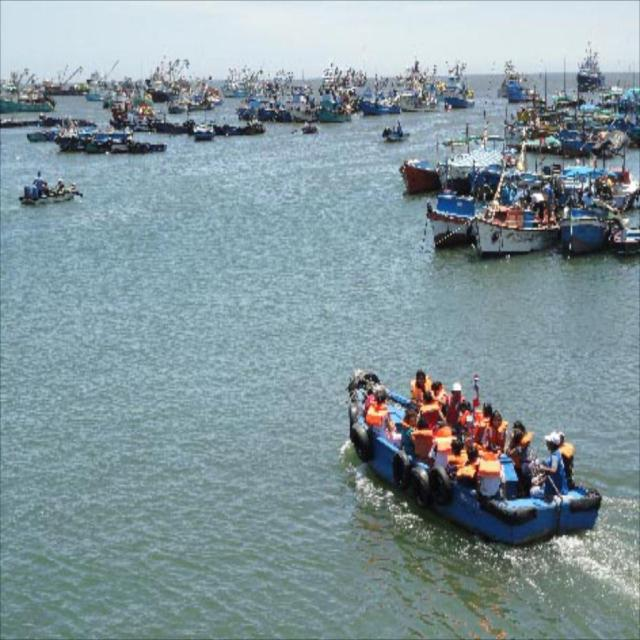Boat: (0, 40, 639, 260), (349, 358, 602, 541)
